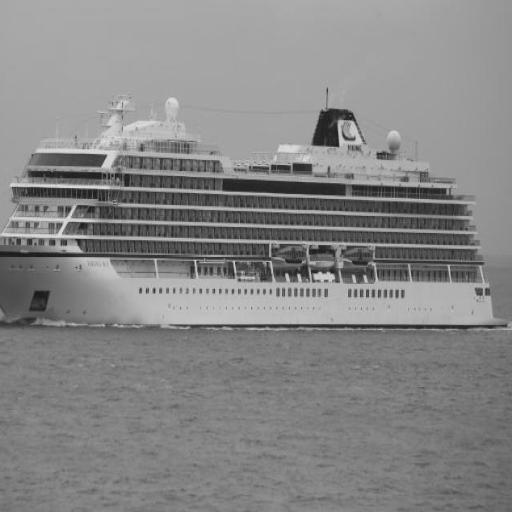cruises: (1, 89, 511, 339)
